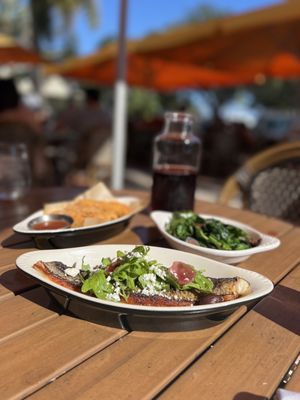sushi: (149, 209, 277, 265)
